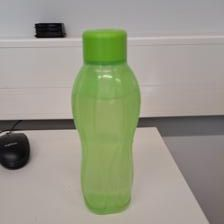bottle: (70, 28, 143, 215)
